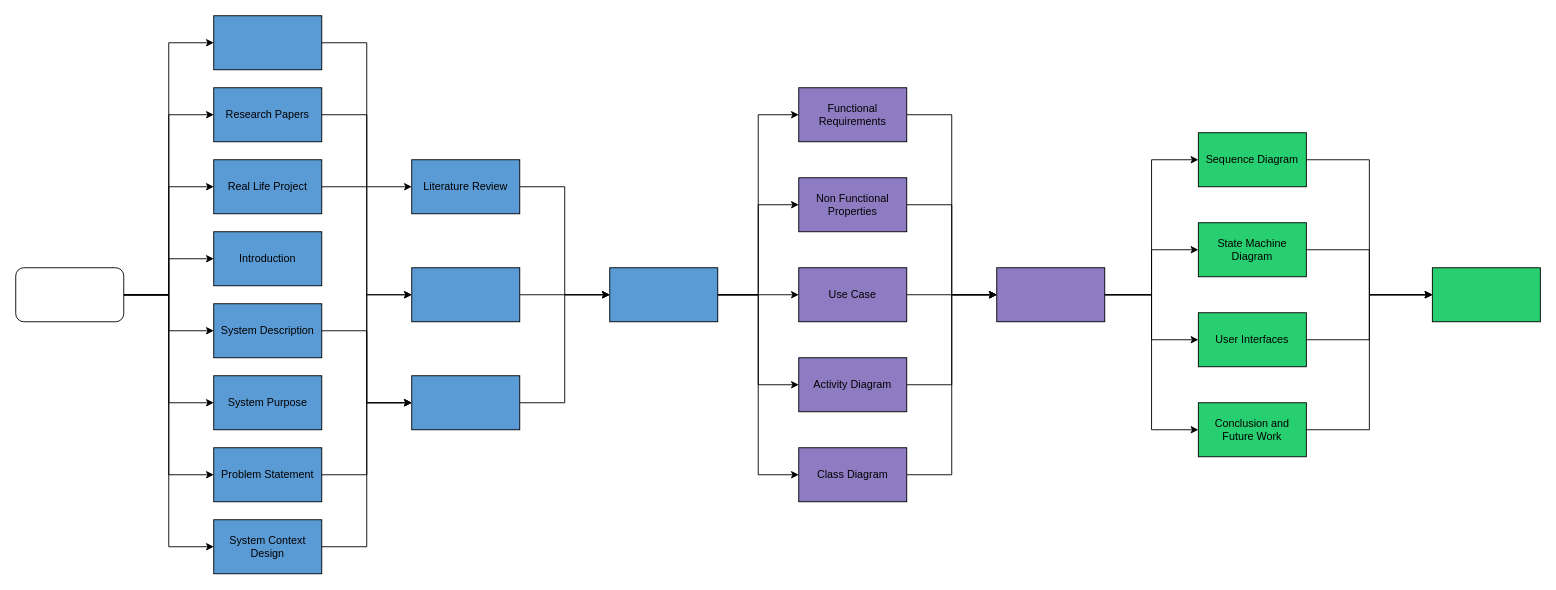
Image size: 1556x590. Some labels were removed from this diagram. The shapes that lost their labels are listed below. From the top down, each one's centre as x and y in pixels, then its label:
At pixel 267 42: "Main Problem Research".
At pixel 69 294: "Start".
At pixel 465 294: "Challenges".
At pixel 663 294: "Verification Phase One".
At pixel 1050 294: "Verification Phase Two".
At pixel 1485 294: "Verification Phase Three".
At pixel 465 402: "Projection".
